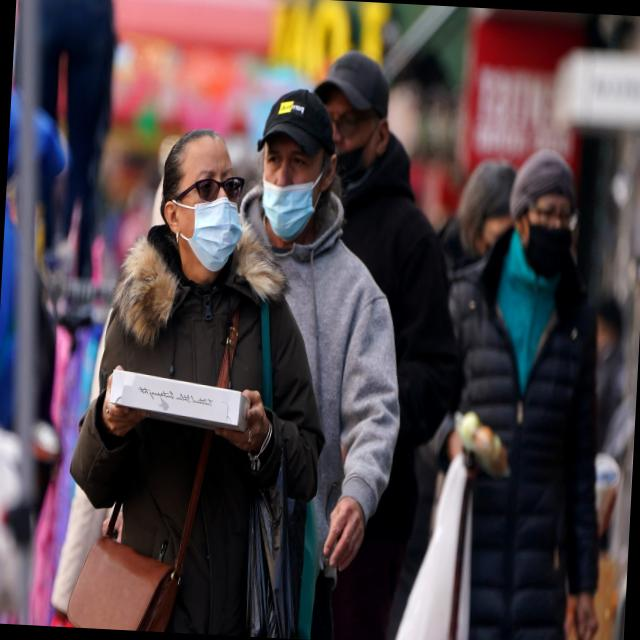Jacket: (67, 237, 340, 602), (208, 193, 404, 594), (434, 234, 616, 626), (318, 163, 461, 520)
